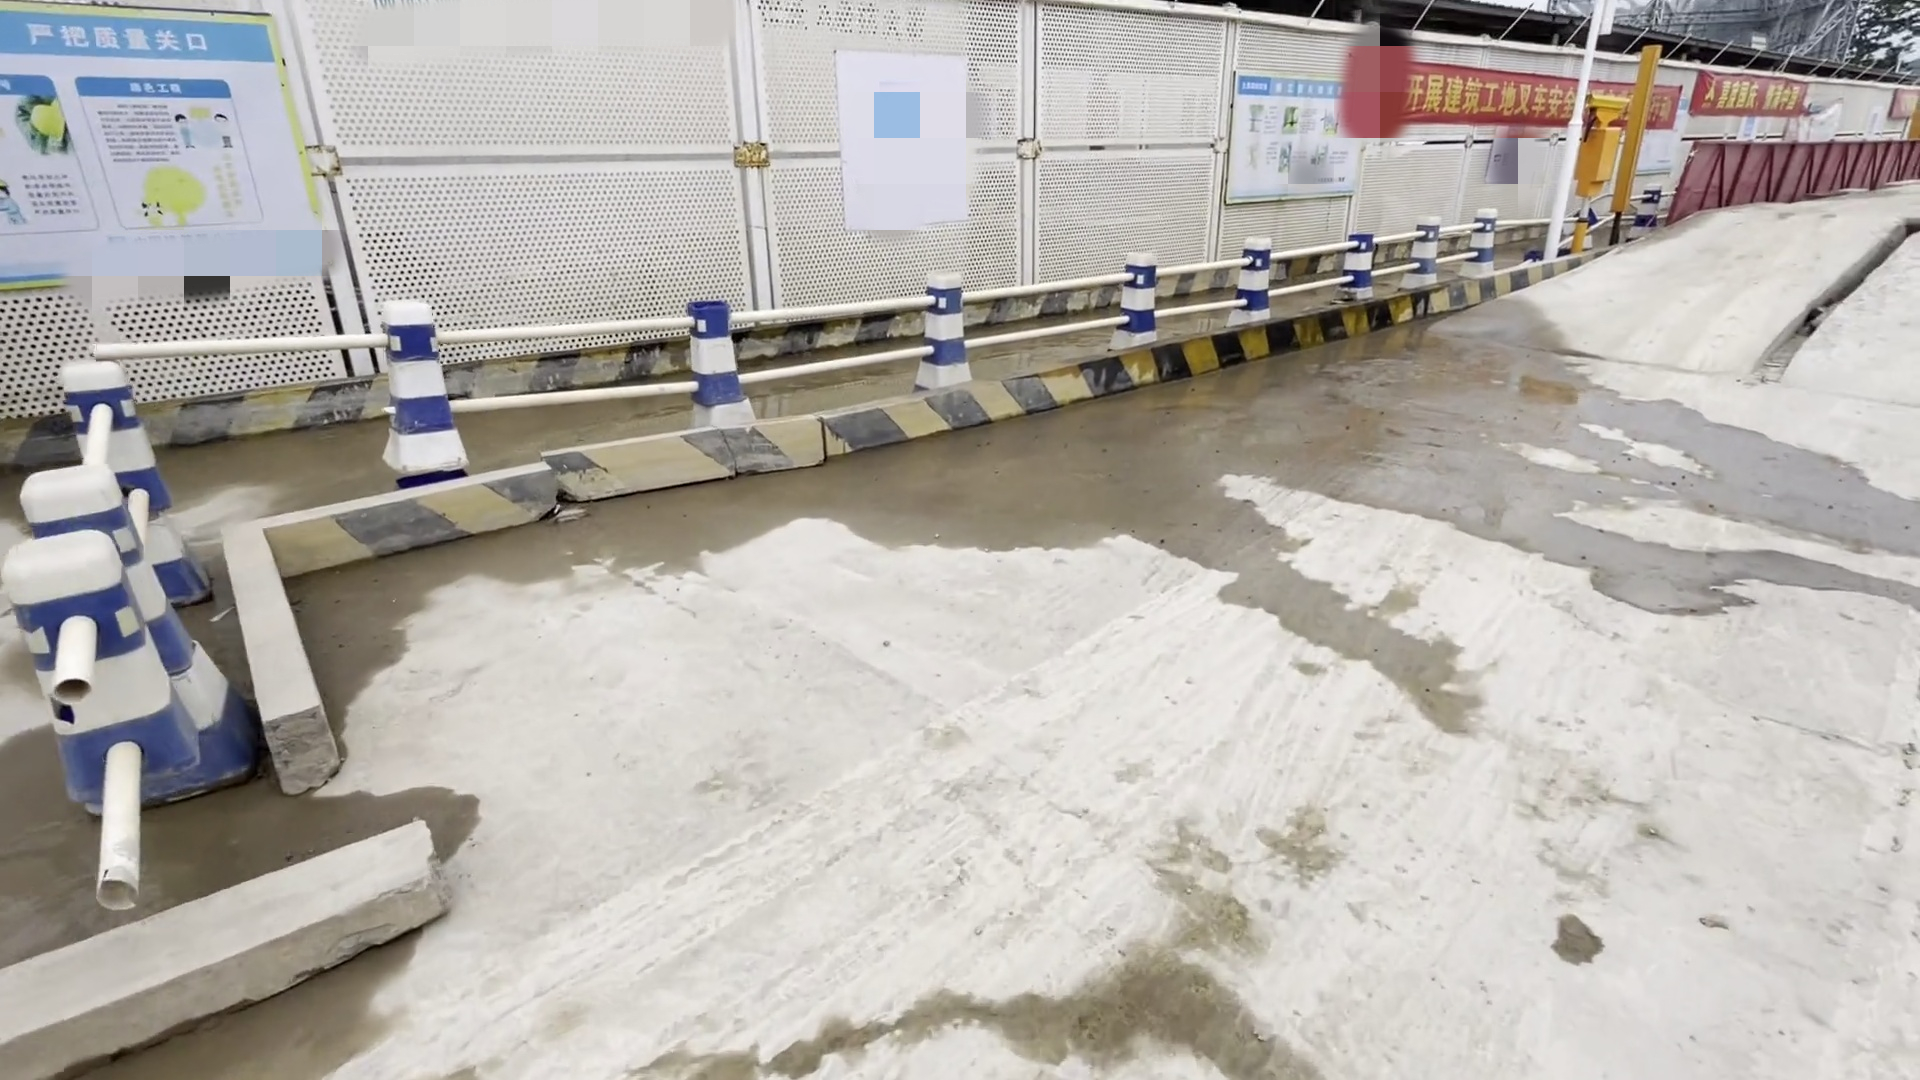fence: (1656, 131, 1920, 237)
slogan: (1365, 36, 1822, 135), (1232, 69, 1358, 200)
